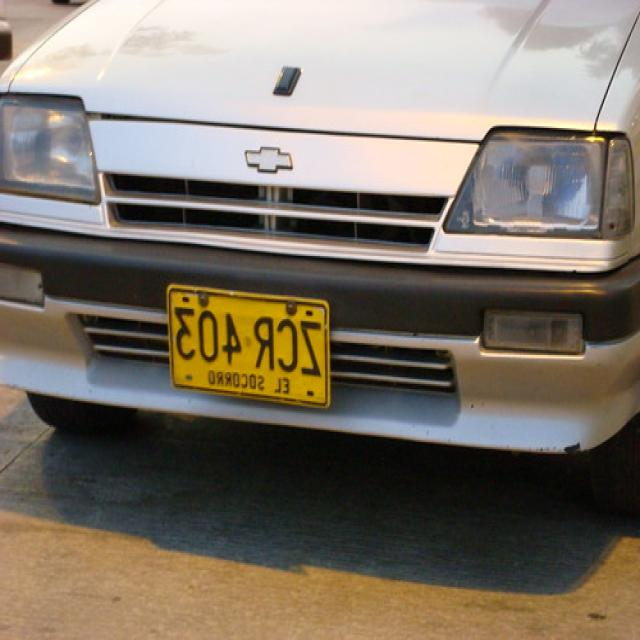placas: (171, 299, 322, 380)
